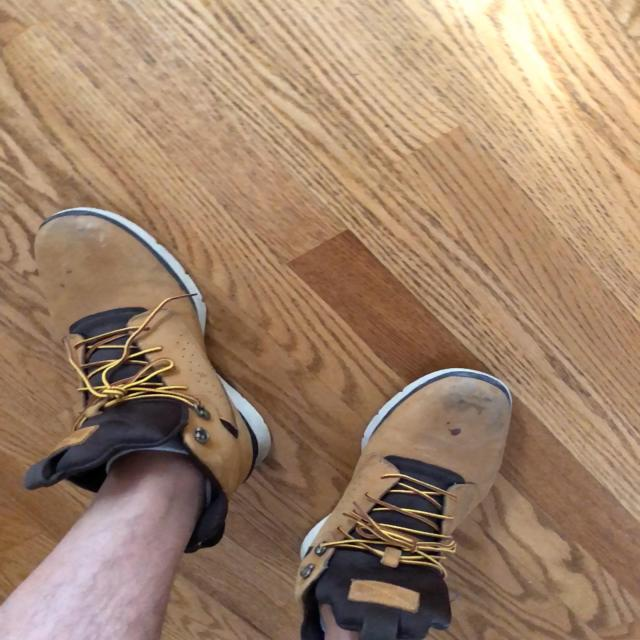shoe: (23, 208, 260, 547), (296, 369, 515, 640)
